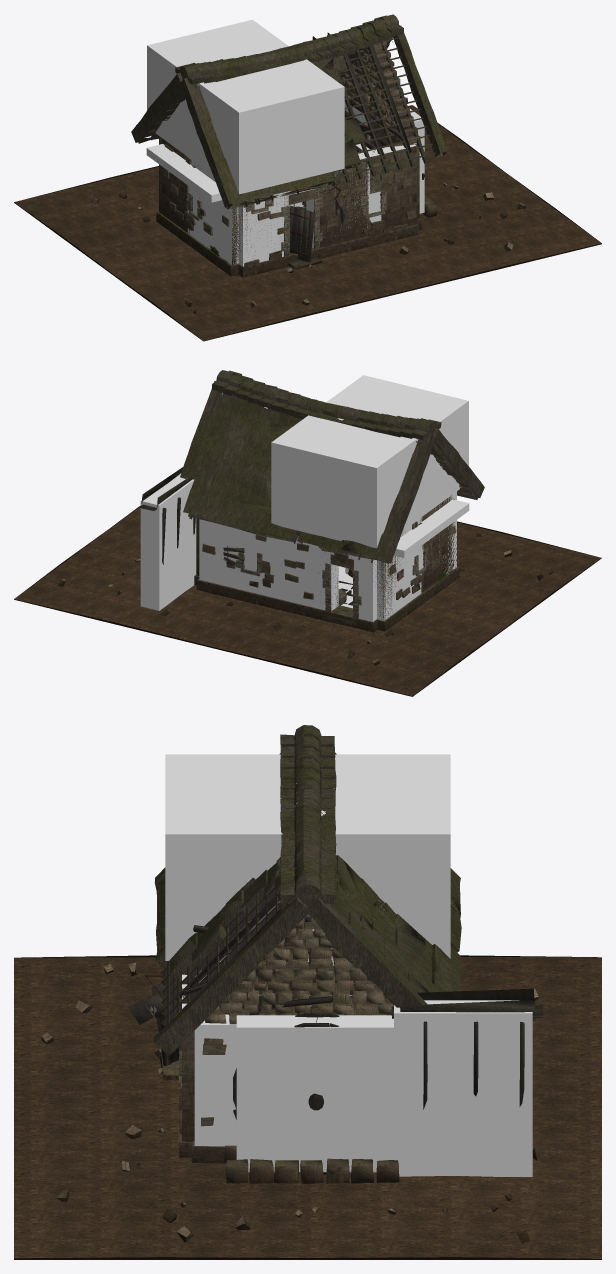
File: bld_mill_shared_tex.glb
The picture shows the model from 3 angles, top to bottom: view 1: azimuth 30°, elevation 25°; view 2: azimuth 150°, elevation 25°; view 3: azimuth 270°, elevation 25°; orthographic projection. The views are drawn at different scales.
Parts seen in each view (by area): view 1: ground_mud, col_roof_W, lite_merge_06, lite_merge_02, lite_merge_04, lite_merge_03, col_wall_S_0, col_wall_W_0, col_loft, wall_S_stones, door_main_leaf, col_wall_S_2 (+1 smaller); view 2: ground_mud, lite_merge_06, col_roof_W, col_wall_N_0, col_flume, lite_merge_03, wall_N_stones, col_wall_W_0, col_loft, lite_merge_05, col_wall_N_2, lite_merge_00 (+1 smaller); view 3: ground_mud, col_roof_W, lite_merge_06, col_wheel, col_flume, lite_merge_02, lite_merge_04, col_wall_E_0, wheel_pit, lite_merge_00, lite_merge_01, lite_merge_07 (+2 smaller).
Part boxes in pixels (x1=…): ground_mud: x1=14, y1=105, x2=601, y2=341; col_roof_W: x1=147, y1=19, x2=344, y2=193; lite_merge_06: x1=131, y1=14, x2=447, y2=209; lite_merge_02: x1=90, y1=40, x2=525, y2=313; lite_merge_04: x1=150, y1=36, x2=435, y2=207; lite_merge_03: x1=156, y1=136, x2=322, y2=276; col_wall_S_0: x1=239, y1=191, x2=288, y2=266; col_wall_W_0: x1=184, y1=155, x2=238, y2=264; col_loft: x1=146, y1=144, x2=221, y2=202; wall_S_stones: x1=246, y1=190, x2=386, y2=256; door_main_leaf: x1=289, y1=205, x2=315, y2=262; col_wall_S_2: x1=306, y1=144, x2=415, y2=248; ground_mud: x1=14, y1=505, x2=601, y2=696; lite_merge_06: x1=180, y1=370, x2=484, y2=563; col_roof_W: x1=271, y1=375, x2=468, y2=548; col_wall_N_0: x1=199, y1=519, x2=338, y2=610; col_flume: x1=140, y1=473, x2=196, y2=610; lite_merge_03: x1=377, y1=495, x2=459, y2=631; wall_N_stones: x1=197, y1=530, x2=377, y2=632; col_wall_W_0: x1=377, y1=491, x2=456, y2=620; col_loft: x1=394, y1=499, x2=469, y2=557; lite_merge_05: x1=235, y1=547, x2=429, y2=625; col_wall_N_2: x1=354, y1=556, x2=376, y2=621; lite_merge_00: x1=139, y1=467, x2=244, y2=568; ground_mud: x1=14, y1=955, x2=601, y2=1259; col_roof_W: x1=165, y1=754, x2=450, y2=960; lite_merge_06: x1=153, y1=725, x2=461, y2=1055; col_wheel: x1=236, y1=1015, x2=393, y2=1172; col_flume: x1=394, y1=1000, x2=532, y2=1176; lite_merge_02: x1=41, y1=914, x2=545, y2=1243; lite_merge_04: x1=161, y1=774, x2=381, y2=1026; col_wall_E_0: x1=194, y1=1014, x2=236, y2=1146; wheel_pit: x1=224, y1=1145, x2=399, y2=1184; lite_merge_00: x1=391, y1=988, x2=542, y2=1018; lite_merge_01: x1=423, y1=1021, x2=524, y2=1109; lite_merge_07: x1=192, y1=1038, x2=226, y2=1163.
Bounding box in the file's own units: 17 × 7.93 × 14.
Materials: 12 (11 with a texture image).
